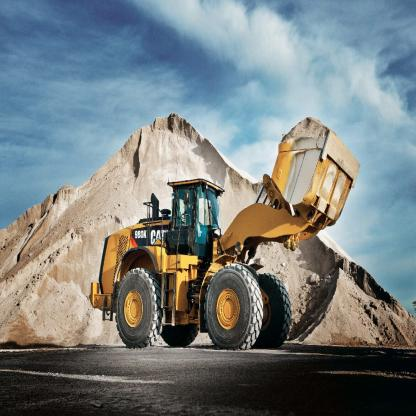bull_dozer/loader/grader: (89, 111, 360, 340)
